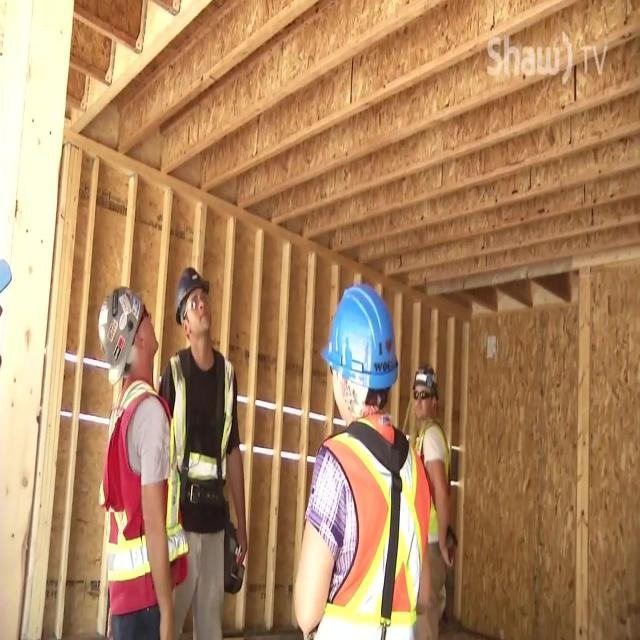Vest: (311, 422, 431, 639), (96, 380, 188, 620), (167, 347, 236, 486), (416, 415, 450, 547)
